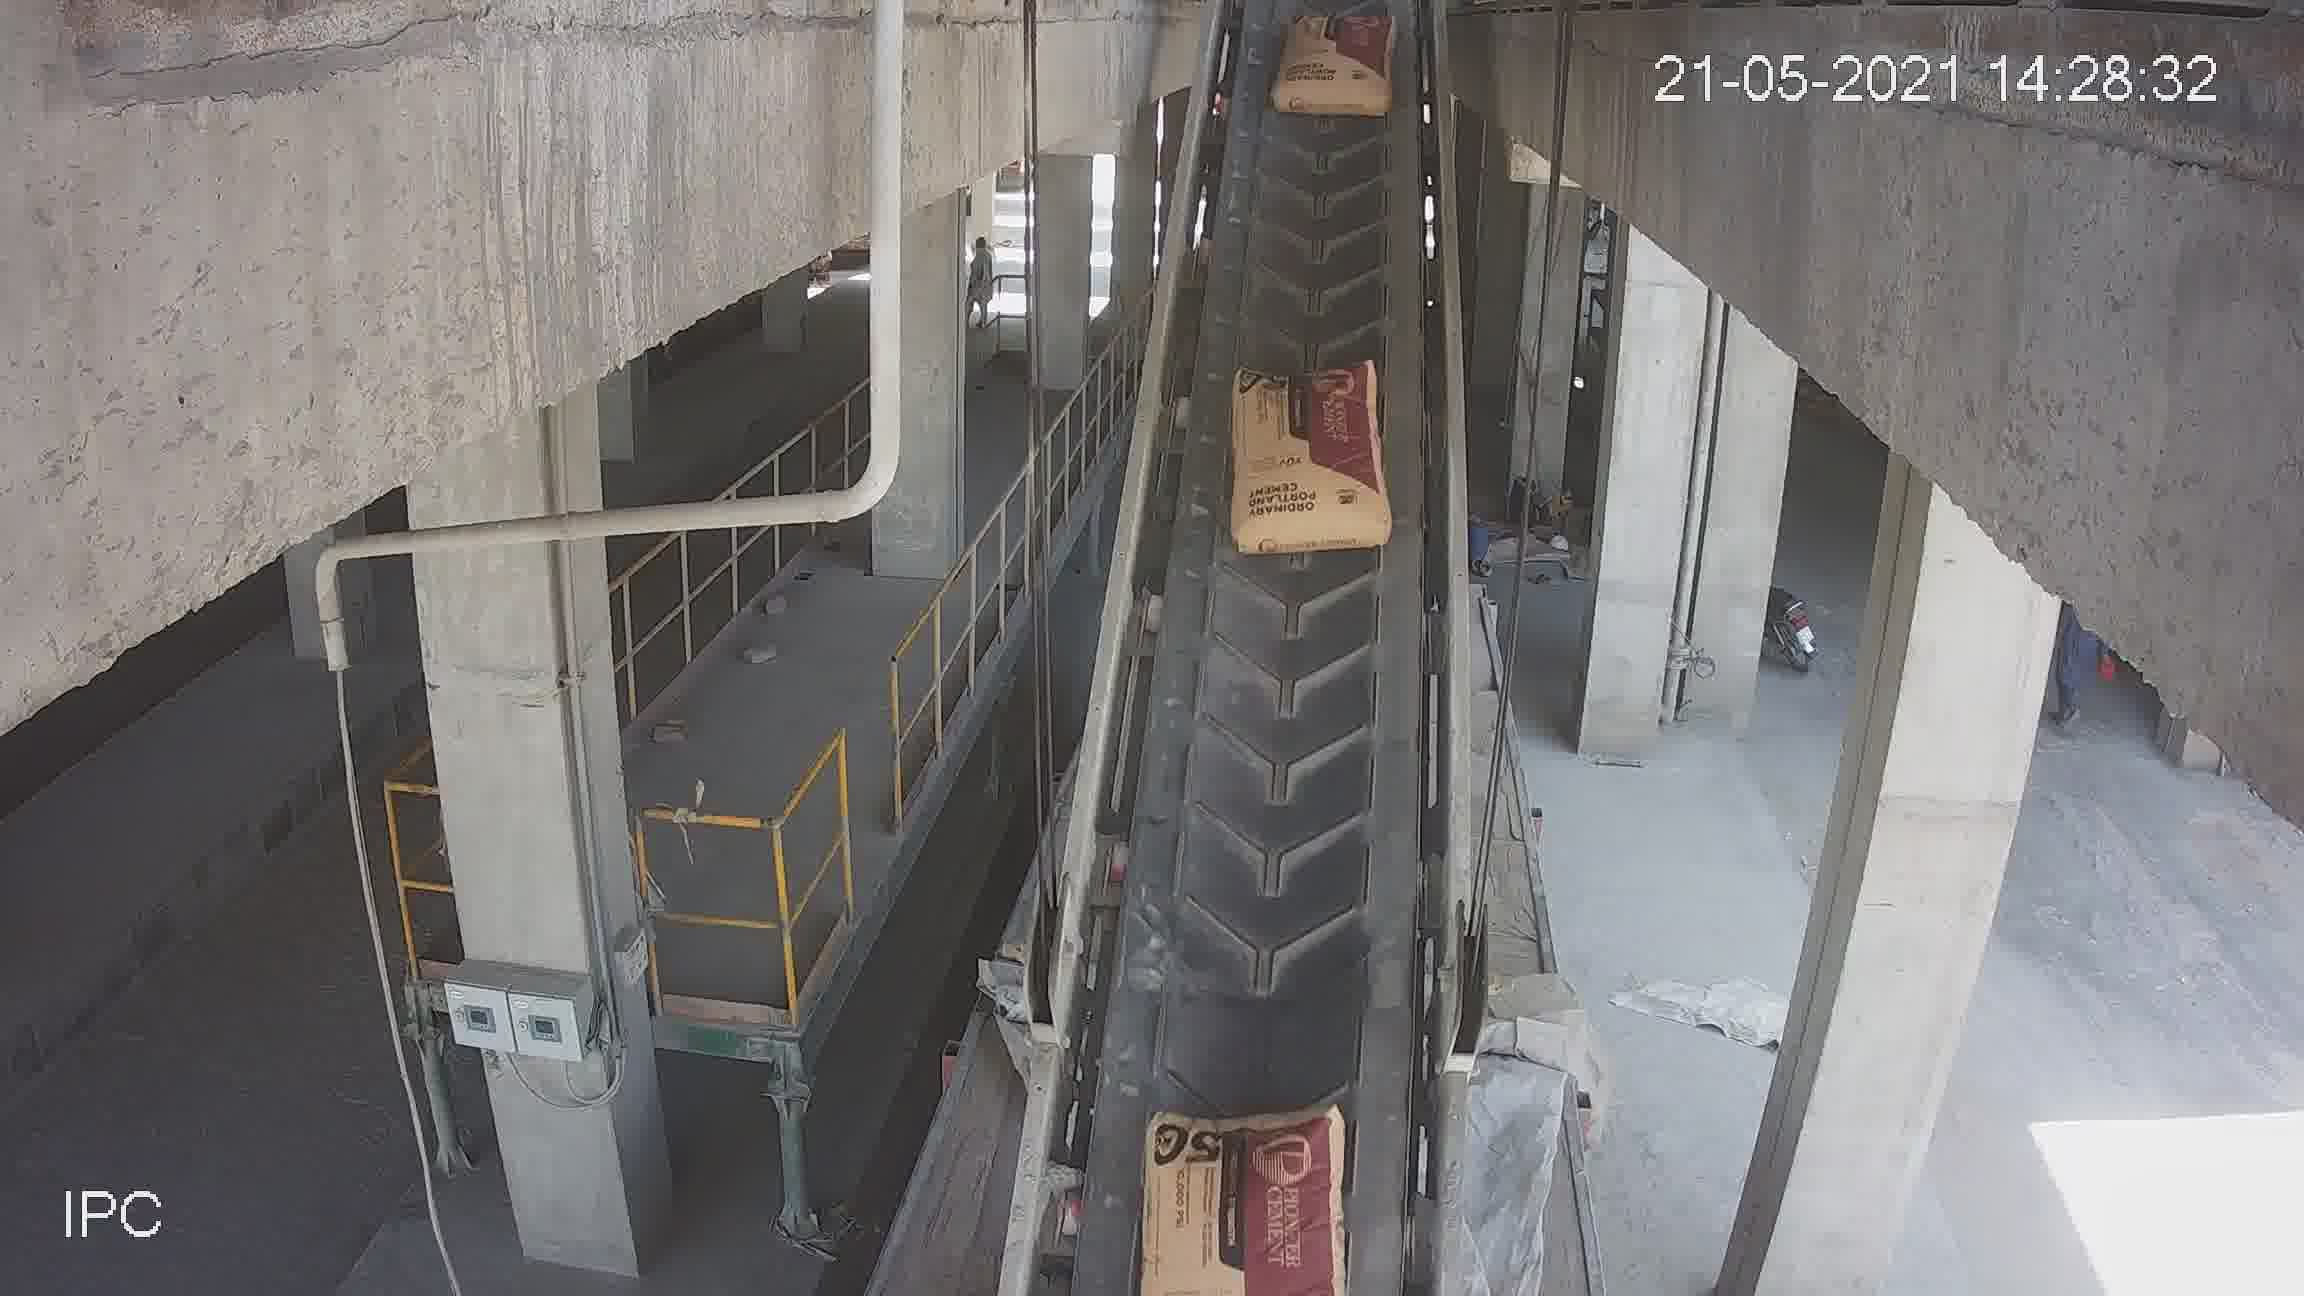bag: (1143, 1109, 1336, 1280), (1236, 375, 1385, 562), (1282, 19, 1381, 108)
belt: (1051, 19, 1473, 1245)
